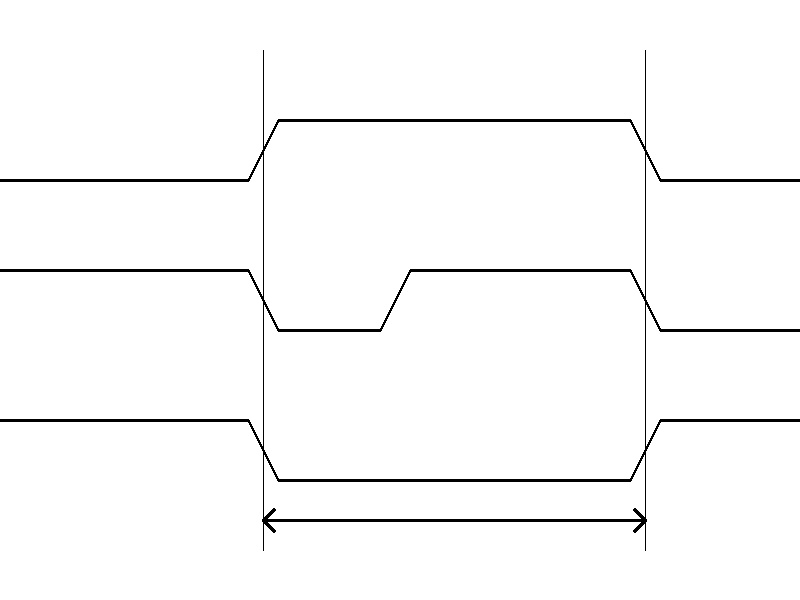double_arrow: (263, 505, 645, 535)
